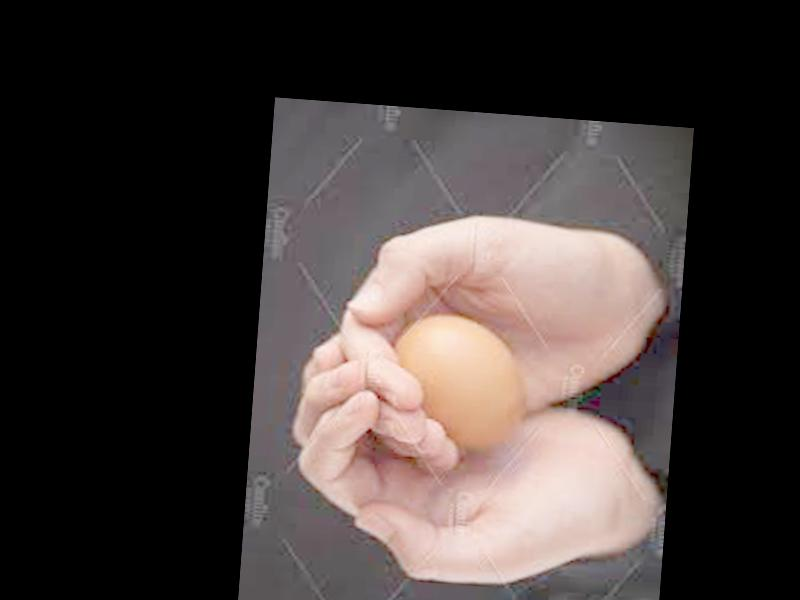Eggs: (391, 311, 532, 458)
